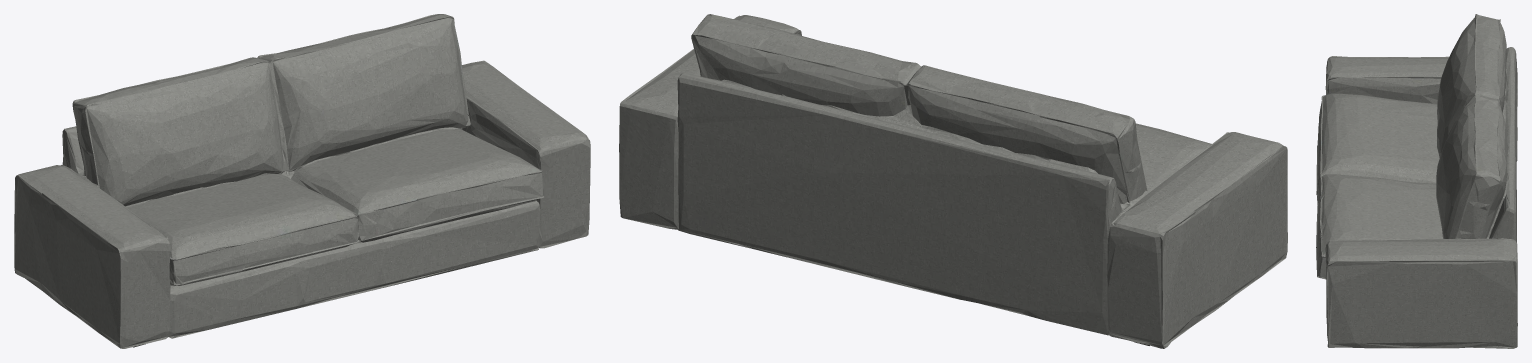
The picture shows the model from 3 angles, left to right: view 1: azimuth 30°, elevation 25°; view 2: azimuth 150°, elevation 25°; view 3: azimuth 270°, elevation 25°; orthographic projection. The views are drawn at different scales.
Visible parts, largest first — view 1: ProcessedGeometry; view 2: ProcessedGeometry; view 3: ProcessedGeometry.
Part boxes in pixels (bbox=[...]): ProcessedGeometry: bbox=[14, 14, 590, 348]; ProcessedGeometry: bbox=[619, 14, 1287, 348]; ProcessedGeometry: bbox=[1316, 14, 1517, 348].
Size of the model in its own units: 2.28 by 0.83 by 0.95.
Materials: 1 (1 with a texture image).
